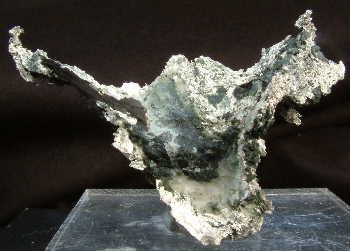silver: (152, 55, 256, 134), (269, 10, 345, 108), (157, 186, 259, 246), (112, 127, 134, 162), (249, 169, 262, 194), (257, 139, 268, 166)
